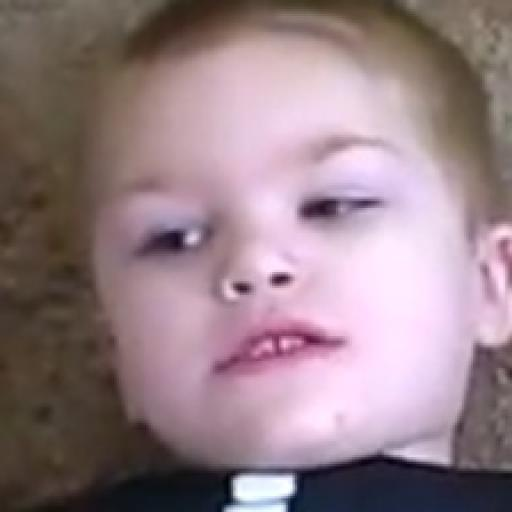Autism: (82, 21, 512, 499)
